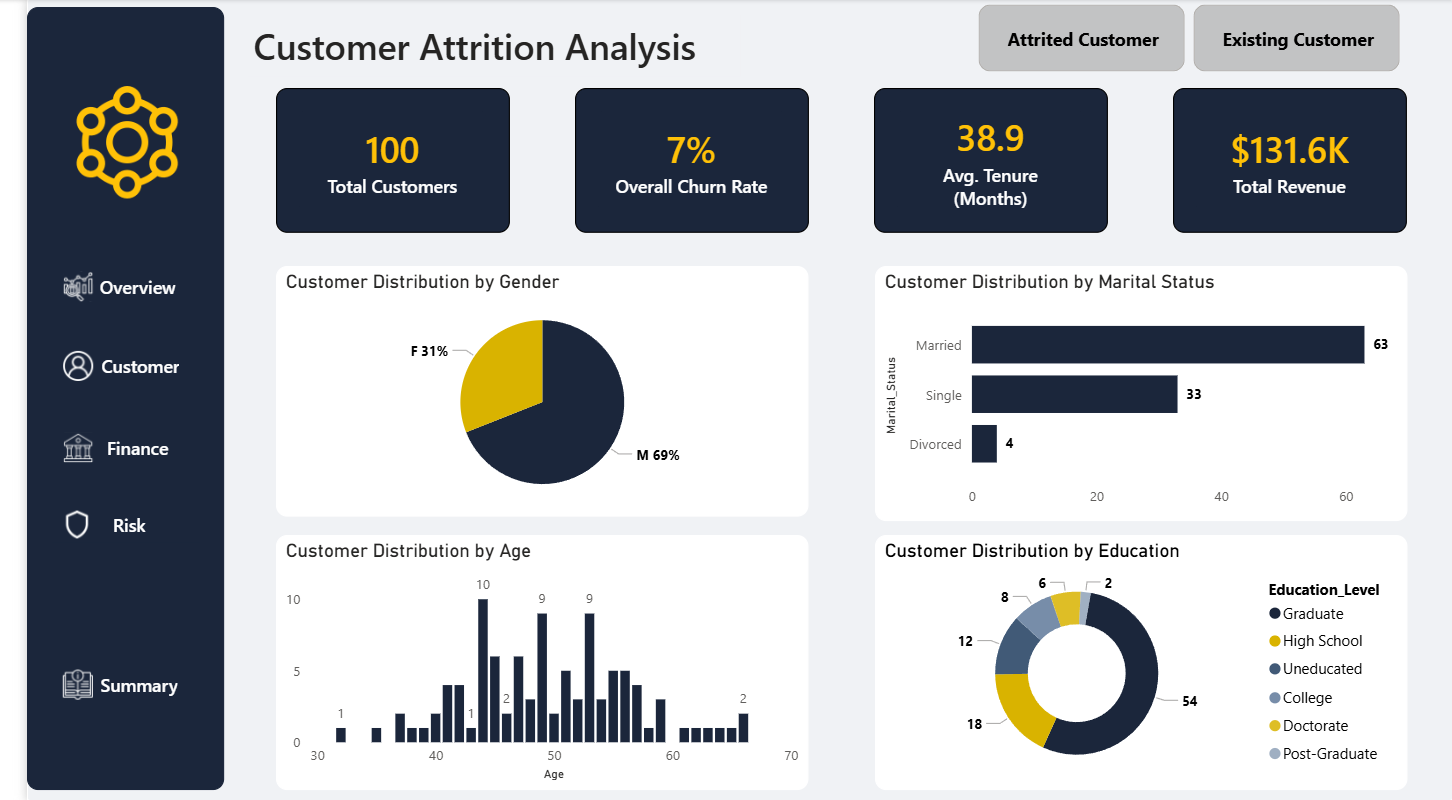

What the dashboard file says about the page in this screenshot:
{"tool":"powerbi","page":{"name":"Customer","canvas":[1280,720],"ordinal":1},"visuals":[{"type":"textbox","box":[198.2,14.5,441.8,55.5],"z":0},{"type":"shape","box":[0,7,177,703],"z":1000},{"type":"image","box":[4.5,78.2,171.8,100.9],"z":2000},{"type":"cardVisual","title":"Total Customers","fields":{"Data":["CountNonNull(Credit_Limits.Customer_ID)"]},"box":[223.6,80,210,130],"z":3000},{"type":"cardVisual","title":"Total Customers","fields":{"Data":["Overall_Churn.Churn_Rate_Final"]},"box":[492.1,80,210,130],"z":4000},{"type":"cardVisual","title":"Total Customers","fields":{"Data":["Avg(View_Monthly_Transaction_Trend.Tenure_Months)"]},"box":[760.6,80,210,130],"z":5000},{"type":"cardVisual","title":"Total Customers","fields":{"Data":["Sum(View_Monthly_Transaction_Trend.Sum_Transaction_Value)"]},"box":[1029.1,80,210,130],"z":6000},{"type":"clusteredBarChart","title":"Customer Distribution by Marital Status","fields":{"Category":["Customer.Marital_Status"],"Y":["CountNonNull(Customer.Customer_ID)"]},"box":[760.9,240,478.2,229.1],"z":7000},{"type":"pieChart","title":"Customer Distribution by Education","fields":{"Y":["CountNonNull(Customer.Customer_ID)"],"Category":["Customer.Education_Level"]},"box":[760.9,480.9,478.2,229.1],"z":8000},{"type":"donutChart","title":"Customer Distribution by Gender","fields":{"Category":["Customer.Gender"],"Y":["CountNonNull(Customer.Customer_ID)"]},"box":[223.6,240,478.2,225.5],"z":9000},{"type":"clusteredColumnChart","title":"Customer Distribution by Age","fields":{"Category":["Customer.Age"],"Y":["CountNonNull(Customer.Customer_ID)"]},"box":[223.6,480.9,478.2,229.1],"z":10000},{"type":"advancedSlicerVisual","fields":{"Values":["Bank_Activity.Churn_Status"]},"box":[849.1,0,389.1,70],"z":11000},{"type":"actionButton","box":[22.4,237.9,132.9,40.4],"z":12000},{"type":"actionButton","box":[22.4,308.2,132.9,43.1],"z":13000},{"type":"actionButton","box":[22.4,454.3,132.9,34.1],"z":14000},{"type":"actionButton","box":[22.4,381.2,132.9,43.1],"z":15000},{"type":"actionButton","box":[25,597,135,37],"z":16000}]}

Visuals, with their boxes in screenshot pixels (x1, y1, x2, y2), scaled from the page's 1280x720 canvas onto the 1452x800 screenshot:
textbox: x1=225 y1=16 x2=726 y2=78
shape: x1=0 y1=8 x2=201 y2=789
image: x1=5 y1=87 x2=200 y2=199
"Total Customers" cardVisual: x1=254 y1=89 x2=492 y2=233
"Total Customers" cardVisual: x1=558 y1=89 x2=796 y2=233
"Total Customers" cardVisual: x1=863 y1=89 x2=1101 y2=233
"Total Customers" cardVisual: x1=1167 y1=89 x2=1406 y2=233
"Customer Distribution by Marital Status" clusteredBarChart: x1=863 y1=267 x2=1406 y2=521
"Customer Distribution by Education" pieChart: x1=863 y1=534 x2=1406 y2=789
"Customer Distribution by Gender" donutChart: x1=254 y1=267 x2=796 y2=517
"Customer Distribution by Age" clusteredColumnChart: x1=254 y1=534 x2=796 y2=789
advancedSlicerVisual - Bank_Activity.Churn_Status: x1=963 y1=0 x2=1405 y2=78
actionButton: x1=25 y1=264 x2=176 y2=309
actionButton: x1=25 y1=342 x2=176 y2=390
actionButton: x1=25 y1=505 x2=176 y2=543
actionButton: x1=25 y1=424 x2=176 y2=471
actionButton: x1=28 y1=663 x2=182 y2=704
